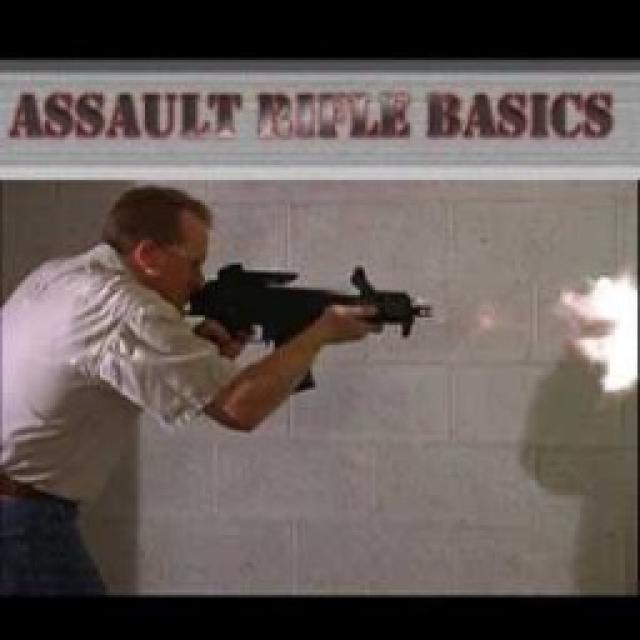long weapon: (198, 247, 448, 412)
